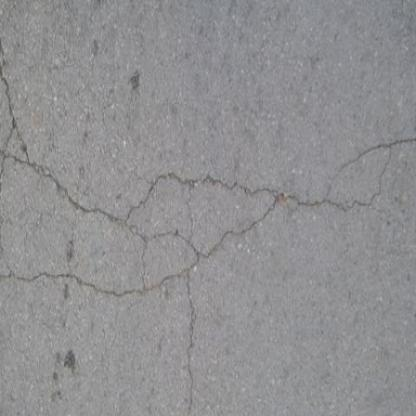Cracks: (0, 150, 290, 415), (290, 132, 415, 214), (0, 58, 33, 165)
